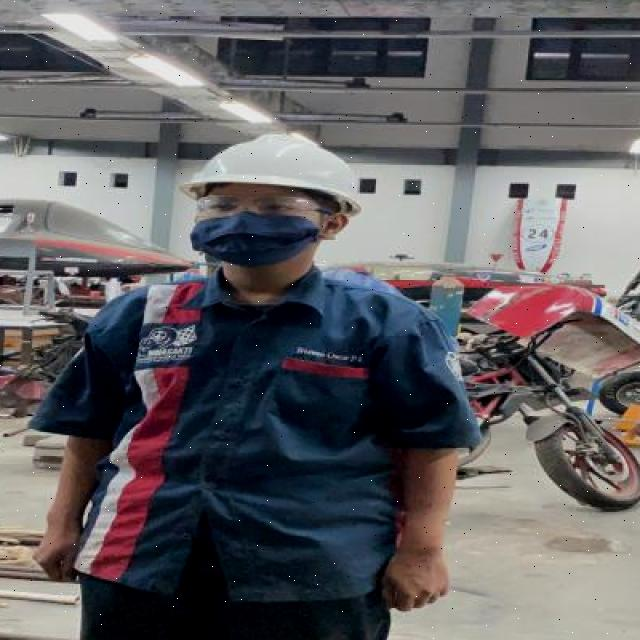Hardhat: (181, 134, 361, 215)
Mask: (194, 212, 318, 266)
No Earmuff: (320, 216, 348, 240)
No Glove: (381, 498, 448, 610), (38, 496, 82, 579)
No Overall Suit: (32, 269, 478, 602)
